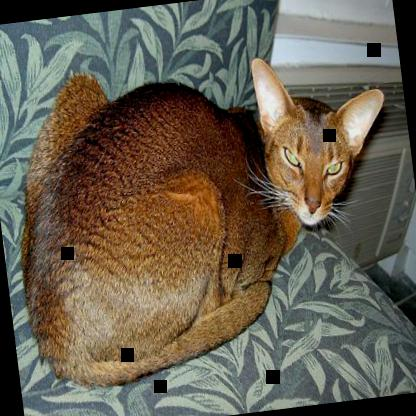cat: (0, 36, 414, 394)
